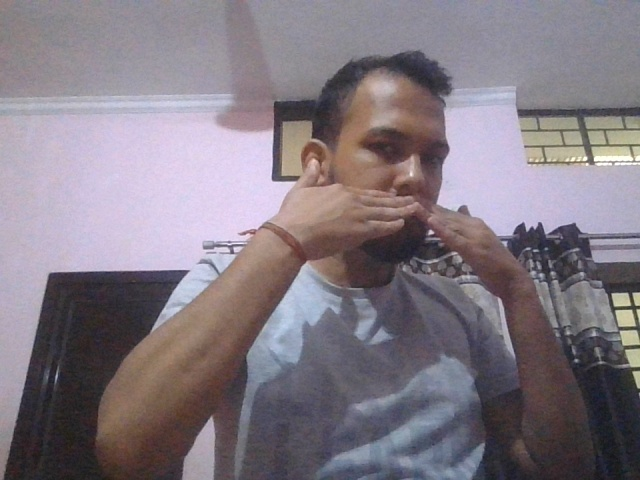thanks: (261, 159, 536, 290)
